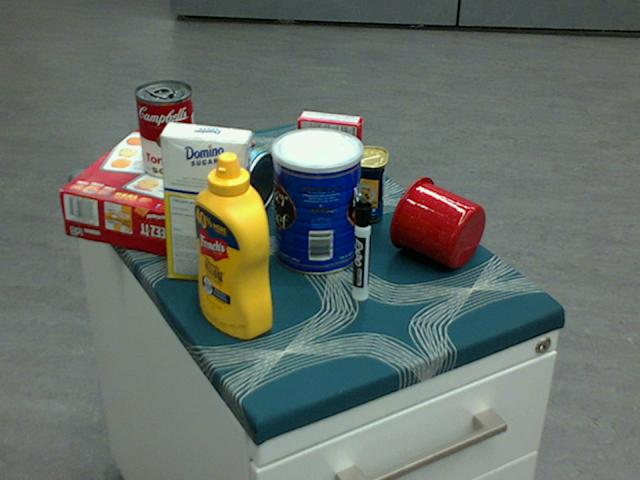cracker_box: (58, 121, 253, 261)
gelatin_box: (298, 111, 362, 170)
large_marker: (353, 199, 371, 301)
master_chef_can: (270, 127, 362, 275)
mug: (389, 175, 485, 268)
mustard_bottle: (195, 152, 271, 339)
potted_meat_can: (304, 143, 387, 221)
sugar_box: (159, 122, 251, 285)
tomato_soup_can: (134, 80, 196, 179)
tuna_fish_can: (220, 144, 276, 214)
